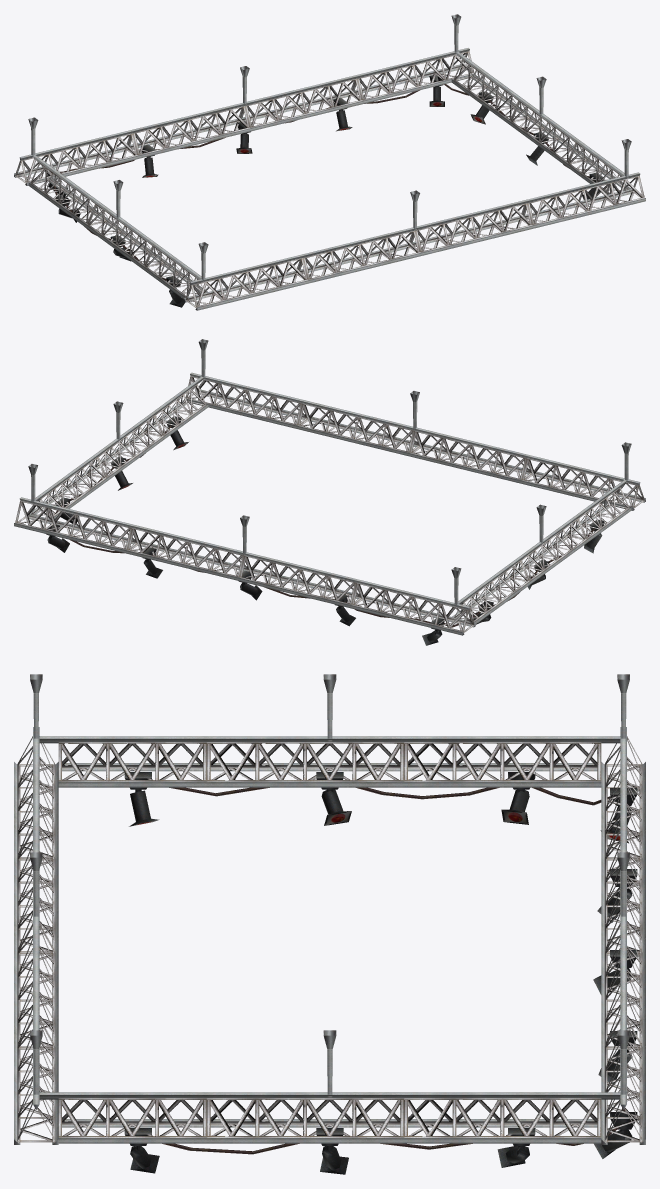
Rendered from niteclub_lights_fx.fbx.
3 views of the same model, one above another, from view 1: azimuth 30°, elevation 25°; view 2: azimuth 150°, elevation 25°; view 3: azimuth 270°, elevation 25° (orthographic). The views are drawn at different scales.
Parts seen in each view (by area): view 1: mesh_7, mesh_3, mesh_11, mesh_15, mesh_4, mesh_0, mesh_6, mesh_2, mesh_5, mesh_1, mesh_8, mesh_12 (+4 smaller); view 2: mesh_3, mesh_7, mesh_11, mesh_15, mesh_0, mesh_4, mesh_1, mesh_5, mesh_2, mesh_6, mesh_8, mesh_12 (+4 smaller); view 3: mesh_11, mesh_15, mesh_7, mesh_3, mesh_12, mesh_8, mesh_9, mesh_13, mesh_14, mesh_10, mesh_0, mesh_4 (+4 smaller).
Part boxes in pixels (x1=…): mesh_7: x1=185, y1=176, x2=644, y2=308; mesh_3: x1=15, y1=51, x2=473, y2=183; mesh_11: x1=30, y1=162, x2=205, y2=297; mesh_15: x1=453, y1=59, x2=628, y2=194; mesh_4: x1=190, y1=172, x2=640, y2=285; mesh_0: x1=19, y1=48, x2=469, y2=161; mesh_6: x1=195, y1=198, x2=645, y2=310; mesh_2: x1=25, y1=74, x2=473, y2=185; mesh_5: x1=184, y1=188, x2=632, y2=302; mesh_1: x1=14, y1=64, x2=461, y2=177; mesh_8: x1=33, y1=155, x2=201, y2=279; mesh_12: x1=456, y1=52, x2=624, y2=176; mesh_3: x1=15, y1=500, x2=474, y2=632; mesh_7: x1=185, y1=376, x2=644, y2=508; mesh_11: x1=454, y1=487, x2=629, y2=621; mesh_15: x1=31, y1=384, x2=206, y2=518; mesh_0: x1=19, y1=497, x2=469, y2=610; mesh_4: x1=190, y1=372, x2=640, y2=485; mesh_1: x1=14, y1=523, x2=464, y2=635; mesh_5: x1=186, y1=398, x2=634, y2=510; mesh_2: x1=28, y1=514, x2=475, y2=627; mesh_6: x1=199, y1=389, x2=645, y2=502; mesh_8: x1=458, y1=480, x2=626, y2=604; mesh_12: x1=35, y1=376, x2=203, y2=500; mesh_11: x1=58, y1=742, x2=601, y2=781; mesh_15: x1=58, y1=1098, x2=601, y2=1137; mesh_7: x1=17, y1=736, x2=55, y2=1142; mesh_3: x1=604, y1=736, x2=642, y2=1142; mesh_12: x1=39, y1=1092, x2=620, y2=1099; mesh_8: x1=39, y1=736, x2=620, y2=743; mesh_9: x1=58, y1=781, x2=601, y2=787; mesh_13: x1=58, y1=1138, x2=601, y2=1143; mesh_14: x1=62, y1=1119, x2=597, y2=1127; mesh_10: x1=62, y1=763, x2=597, y2=771; mesh_0: x1=620, y1=727, x2=626, y2=1109; mesh_4: x1=33, y1=727, x2=39, y2=1109.
Size of the model in its own units: 1400 by 252 by 990.
Materials: 1 (1 with a texture image).
